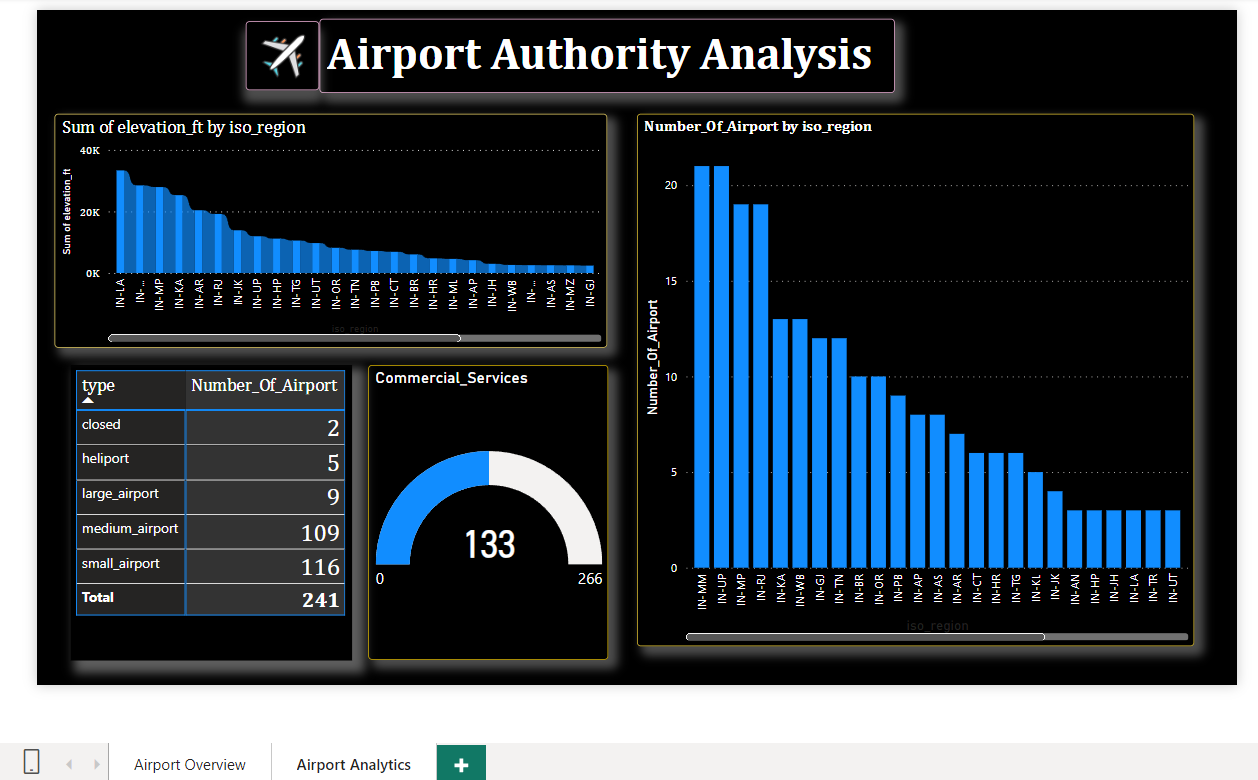

Layout of this report page (visuals, bound fields, positions):
{"tool":"powerbi","page":{"name":"Airport Analytics","canvas":[1280,720],"ordinal":1},"visuals":[{"type":"pivotTable","fields":{"Rows":["World_Airports.type"],"Values":["World_Airports.Number_Of_Airport"]},"box":[36.2,378.8,300,315],"z":0},{"type":"columnChart","fields":{"Category":["World_Airports.iso_region"],"Y":["World_Airports.Number_Of_Airport"]},"box":[640.4,111,594.6,568],"z":1000},{"type":"ribbonChart","fields":{"Y":["Sum(World_Airports.elevation_ft)"],"Category":["World_Airports.iso_region"]},"box":[19.3,111,589.7,249.6],"z":2000},{"type":"textbox","box":[301.5,9.6,613.9,79.6],"z":3000},{"type":"image","box":[223.1,12.1,78.4,73.6],"z":4000},{"type":"gauge","fields":{"Y":["World_Airports.Commercial_Services"]},"box":[353.4,378.7,255.7,314.8],"z":5000}]}

Visuals, with their boxes on the page's 1280x720 design canvas (x1, y1, x2, y2). These are canvas units, not pixel positions in the 1258x780 screenshot, which may show the page scaled, cropped or inside an application window:
pivotTable - World_Airports.type x World_Airports.Number_Of_Airport: region(36, 379, 336, 694)
columnChart - World_Airports.iso_region x World_Airports.Number_Of_Airport: region(640, 111, 1235, 679)
ribbonChart - Sum(World_Airports.elevation_ft) x World_Airports.iso_region: region(19, 111, 609, 361)
textbox: region(302, 10, 915, 89)
image: region(223, 12, 302, 86)
gauge - World_Airports.Commercial_Services: region(353, 379, 609, 694)
